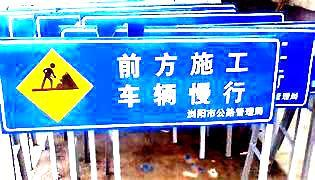sign: (1, 39, 272, 123)
